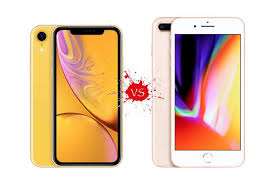iphone: (167, 13, 247, 169)
iphone8: (166, 14, 246, 170)
